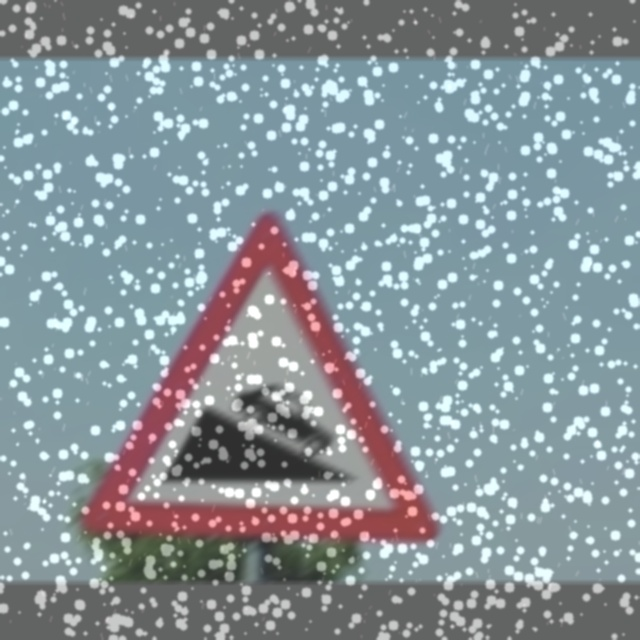Steep_Descent: (86, 217, 434, 537)
